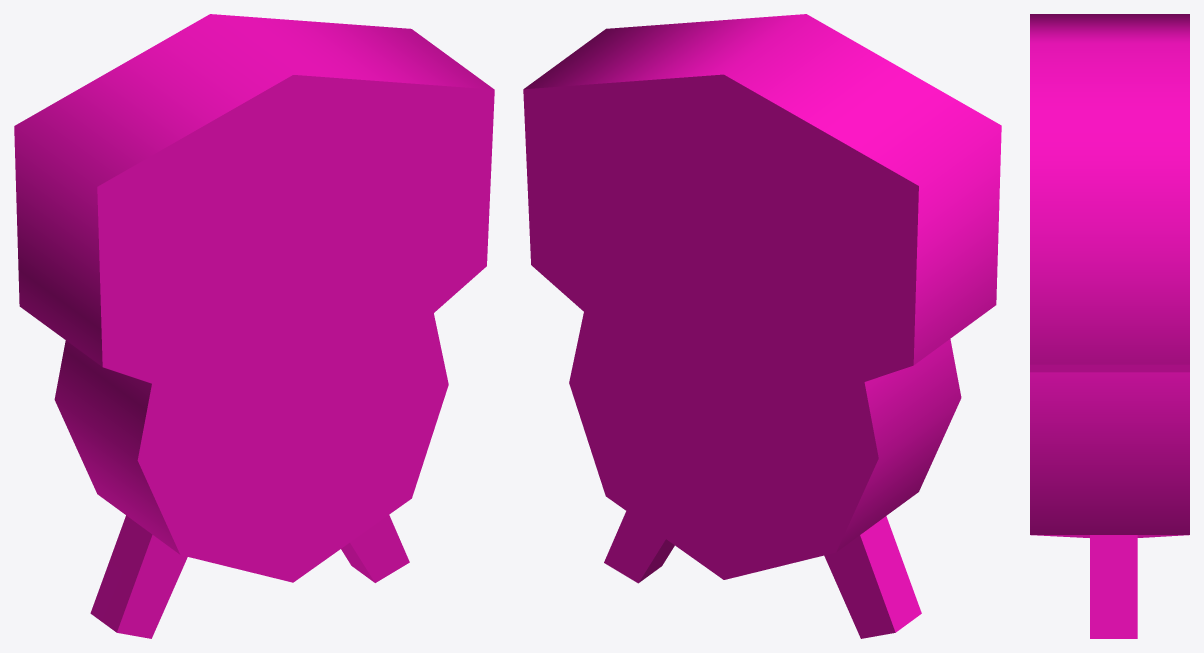
File: study_clock_alarm_1_meshCollider.fbx
3 views of the same model, side by side, from view 1: azimuth 30°, elevation 25°; view 2: azimuth 150°, elevation 25°; view 3: azimuth 270°, elevation 25° (orthographic). The views are drawn at different scales.
Visible parts, largest first — view 1: study_clock_alarm_1_meshCollider; view 2: study_clock_alarm_1_meshCollider; view 3: study_clock_alarm_1_meshCollider.
Boxes of the visible parts, box(x1,y1,x2,y2) form: study_clock_alarm_1_meshCollider: box(14, 14, 494, 638); study_clock_alarm_1_meshCollider: box(523, 14, 1001, 638); study_clock_alarm_1_meshCollider: box(1030, 14, 1189, 638).
Size of the model in its own units: 19.27 by 25.91 by 6.98.
